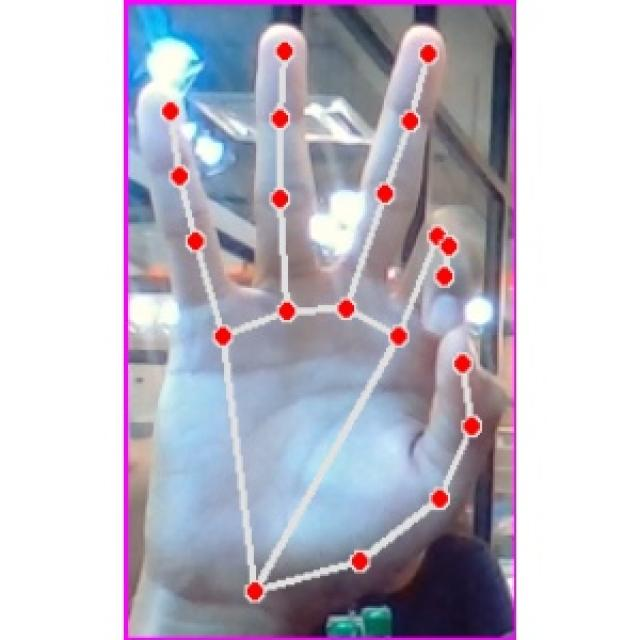F: (138, 22, 508, 612)
